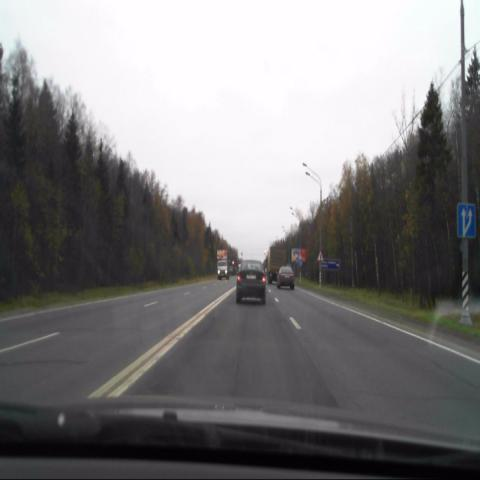5_15_3: (457, 203, 476, 240)
